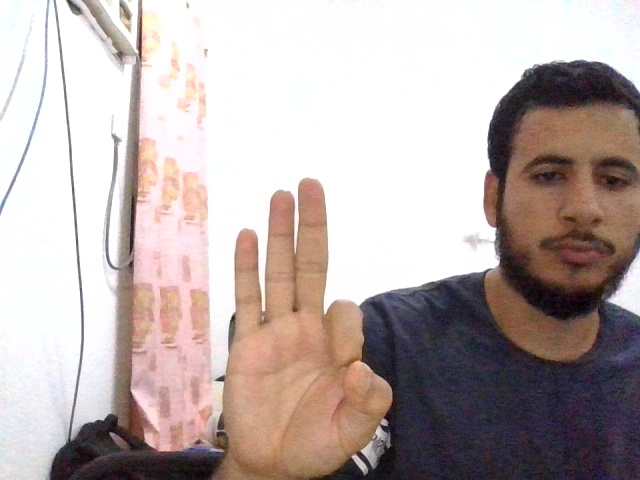Three: (224, 178, 394, 476)
